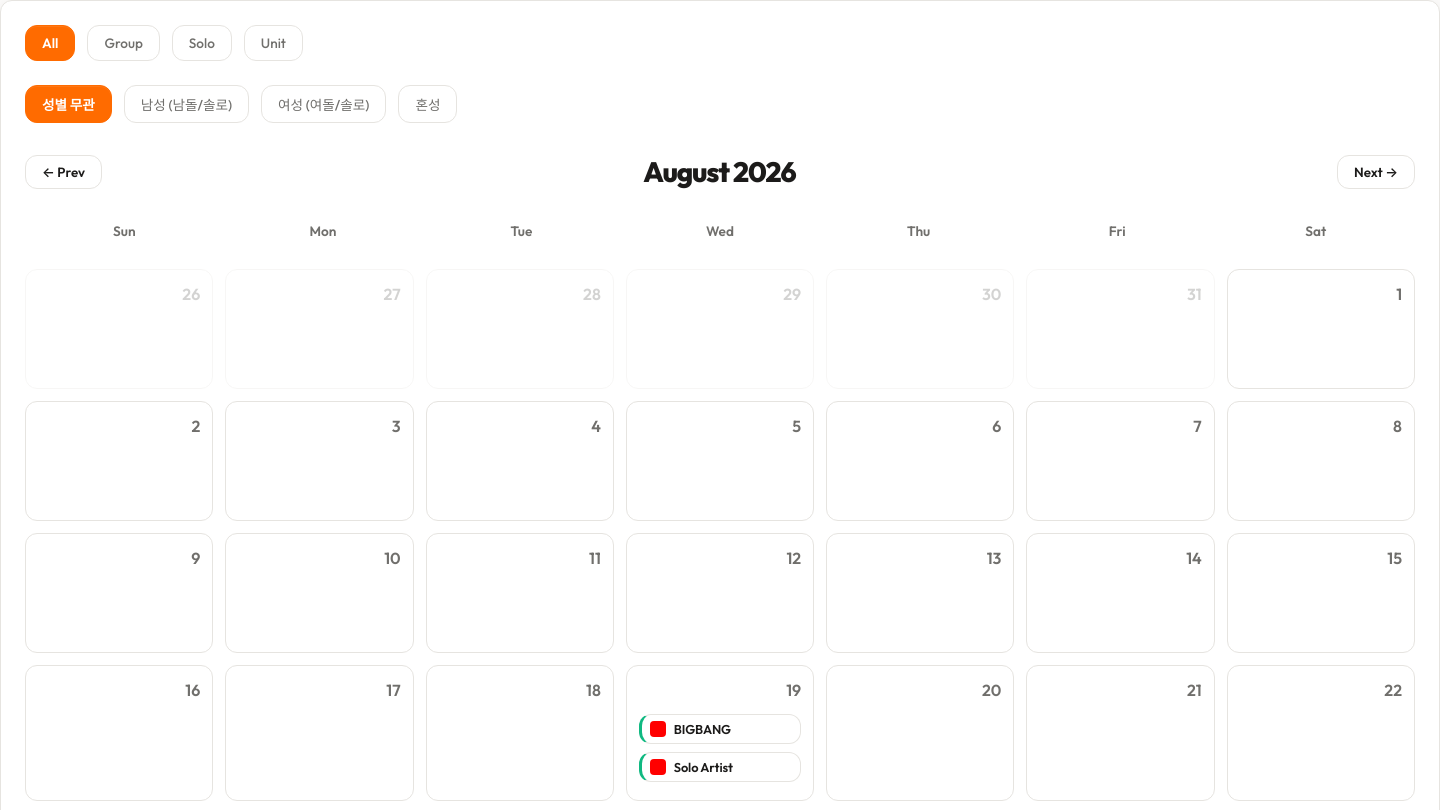
CalendarGrid › filters by artistType (Group)
This screenshot has width=1440, height=810.
Expected: the text "BIGBANG" is shown, [674, 721, 731, 737]
Click the button "Group" at [124, 43], box [87, 25, 160, 61]
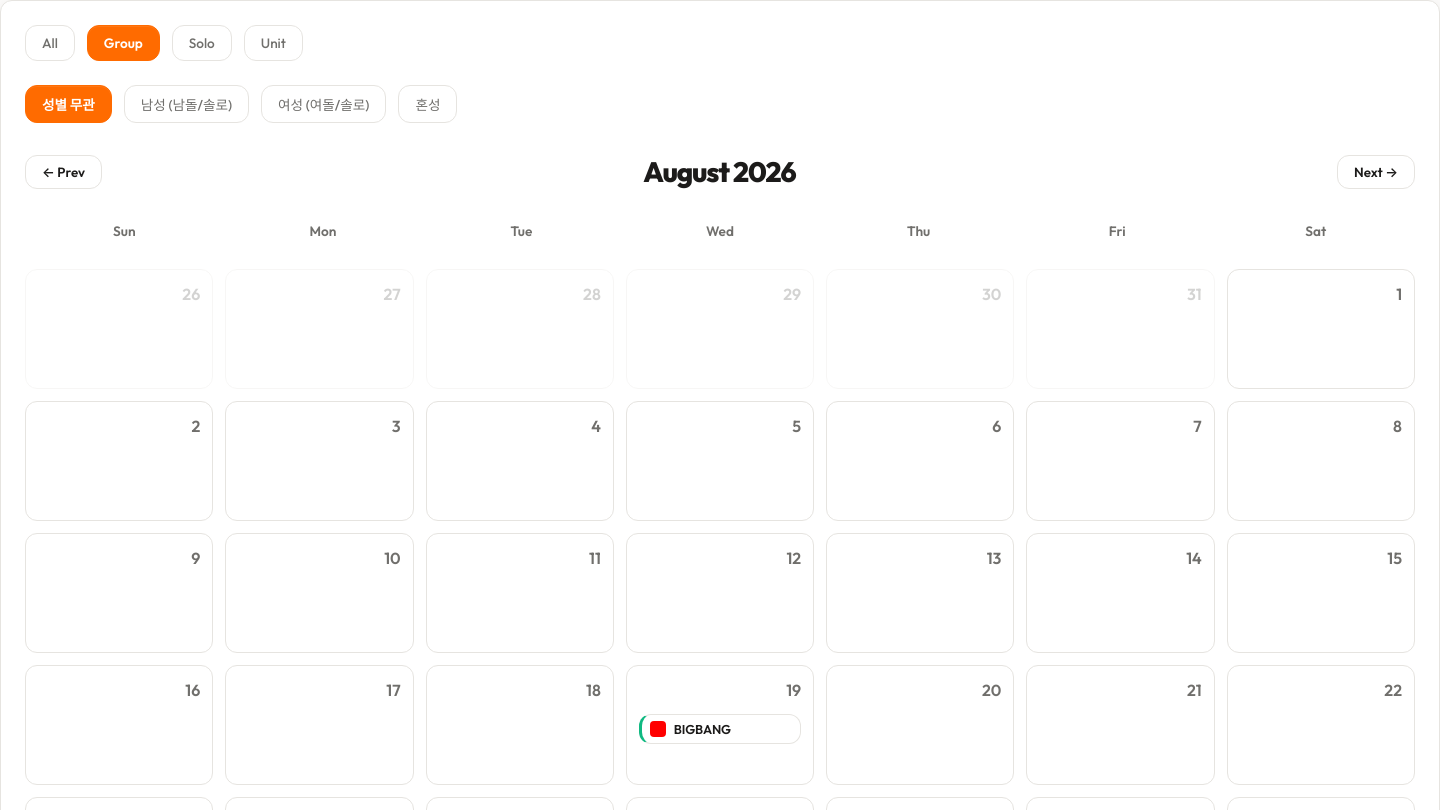
Expected: the text "BIGBANG" is shown, [674, 721, 731, 737]
Result: the button "Solo Artist" is gone
